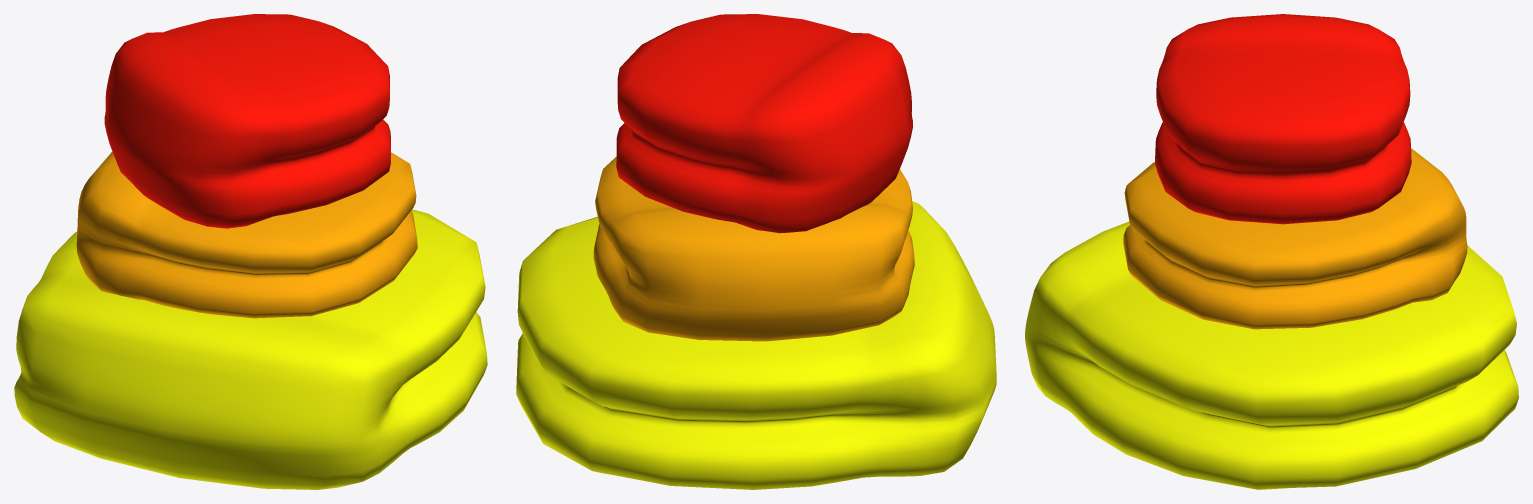
File: Serviettes_pliées.fbx
3 renders of one model, left to right at view 1: azimuth 30°, elevation 25°; view 2: azimuth 150°, elevation 25°; view 3: azimuth 270°, elevation 25°, orthographic. The views are drawn at different scales.
Visible parts, largest first — view 1: Cube.027, Cube.025, Cube.026; view 2: Cube.027, Cube.025, Cube.026; view 3: Cube.027, Cube.025, Cube.026.
Boxes of the visible parts, <box> form: Cube.027: <box>14,209,487,489</box>; Cube.025: <box>104,14,390,228</box>; Cube.026: <box>76,151,417,318</box>; Cube.027: <box>516,201,996,489</box>; Cube.025: <box>616,14,912,233</box>; Cube.026: <box>593,156,914,341</box>; Cube.027: <box>1025,221,1518,489</box>; Cube.025: <box>1155,14,1411,224</box>; Cube.026: <box>1123,148,1467,329</box>.
Size of the model in its own units: 123 by 98.54 by 122.
